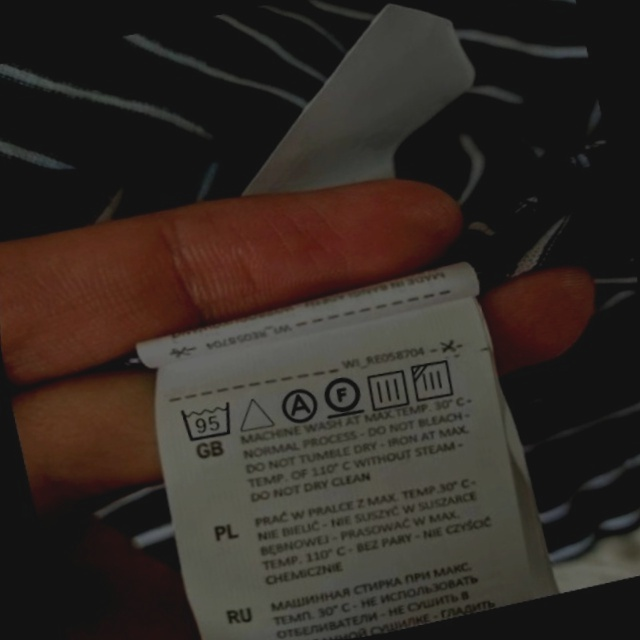95C: (173, 391, 243, 451)
bleach: (230, 386, 280, 440)
drip_dry: (359, 360, 418, 418)
drip_dry_in_shade: (404, 350, 466, 411)
dry_clean: (272, 380, 324, 431)
dry_clean_petrol_only: (315, 365, 371, 425)
